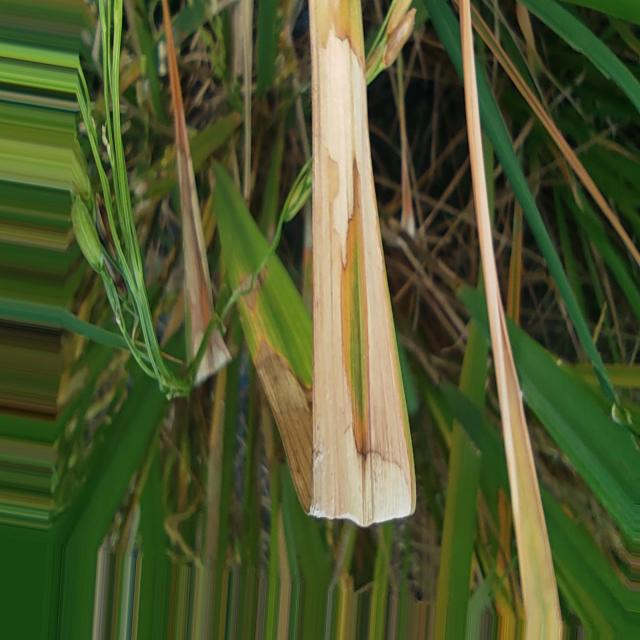Leaf_Blast: (460, 0, 561, 639)
Rice False Smut: (309, 0, 415, 526), (254, 340, 312, 512), (178, 148, 214, 358), (195, 328, 231, 384), (238, 277, 259, 318)
